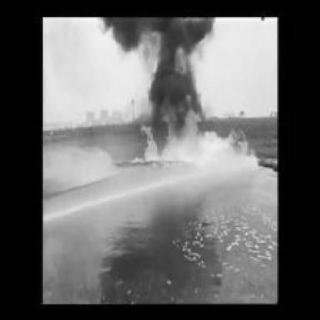Smoke: (94, 16, 224, 110)
